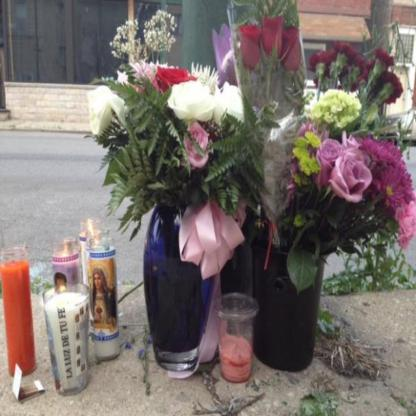vase: (144, 202, 219, 374), (252, 230, 330, 374), (221, 210, 256, 297)
